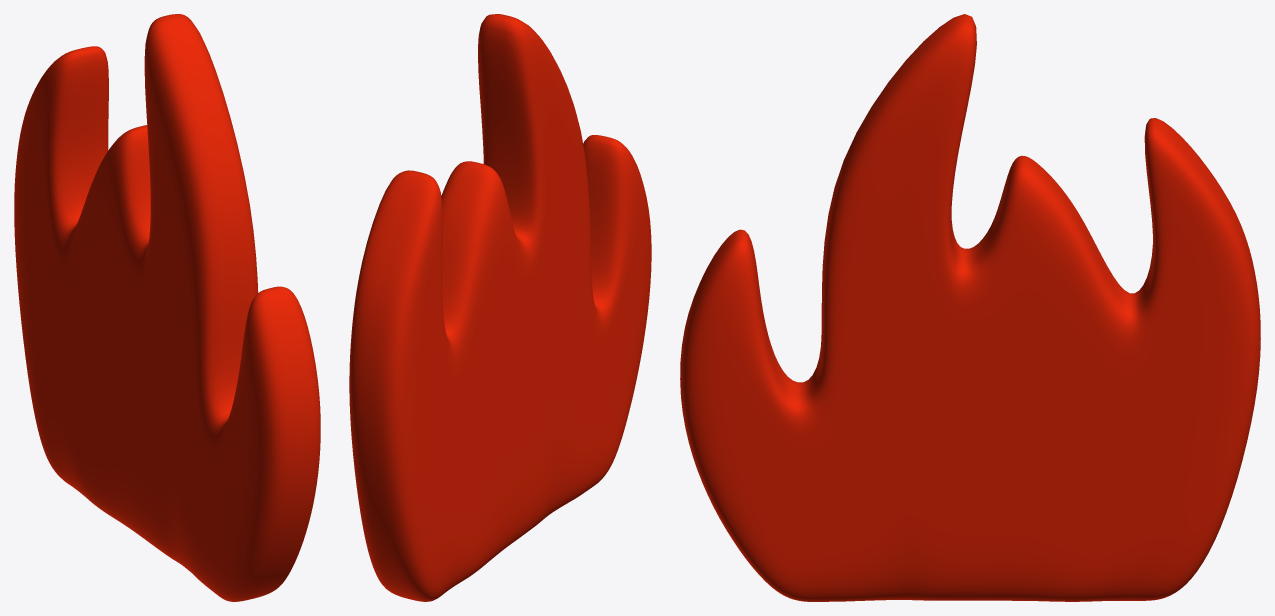
The model's file is fire.fbx.
3 renders of one model, left to right at view 1: azimuth 30°, elevation 25°; view 2: azimuth 150°, elevation 25°; view 3: azimuth 270°, elevation 25°, orthographic. The views are drawn at different scales.
Parts seen in each view (by area): view 1: Fire; view 2: Fire; view 3: Fire.
Part boxes in pixels (bbox=[...]): Fire: bbox=[14, 14, 320, 601]; Fire: bbox=[349, 14, 651, 601]; Fire: bbox=[680, 14, 1260, 601].
Size of the model in its own units: 13.48 by 115 by 105.
